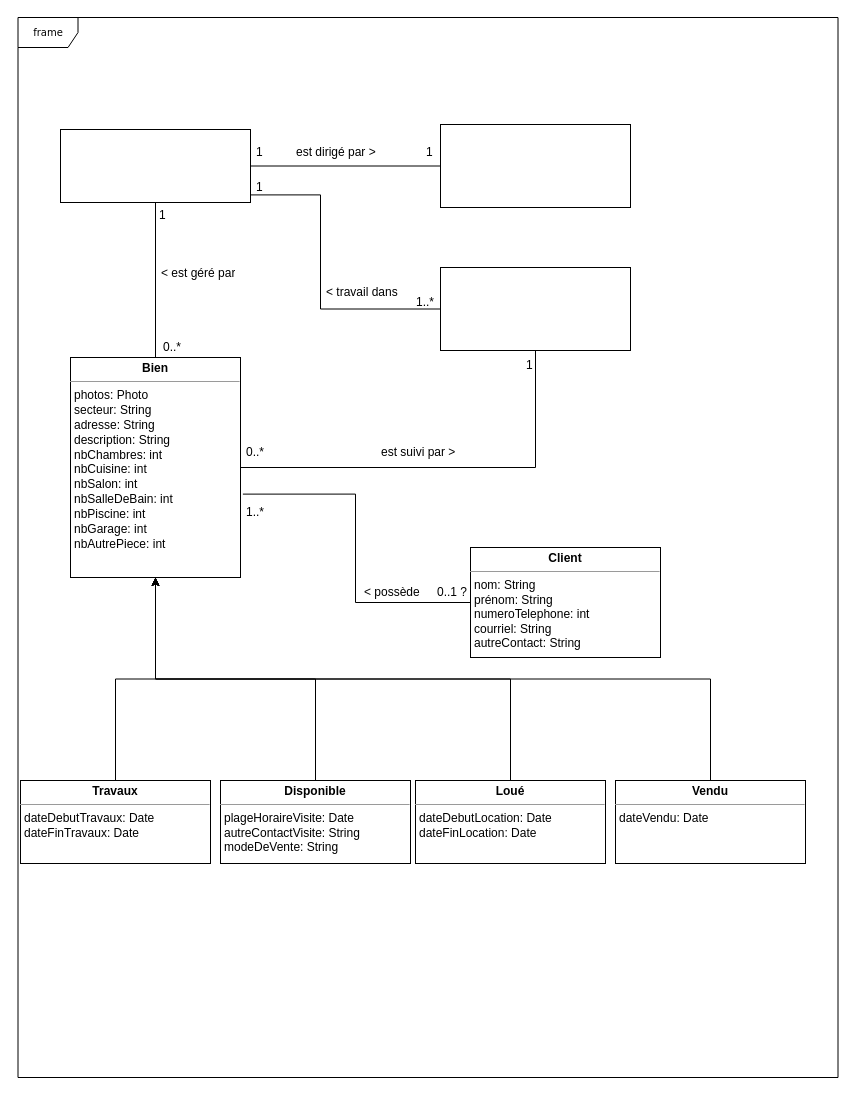
This 855x1095 diagram has some shape labels left out. The centre of each missing label's shape, as x and y in pixels:
"Agence plageHoraire: Date adresse : String" goes at pixel 155 165.
"Commercial nom: String prénom: String" goes at pixel 535 308.
"Responsable nom: String prénom: String" goes at pixel 535 166.
